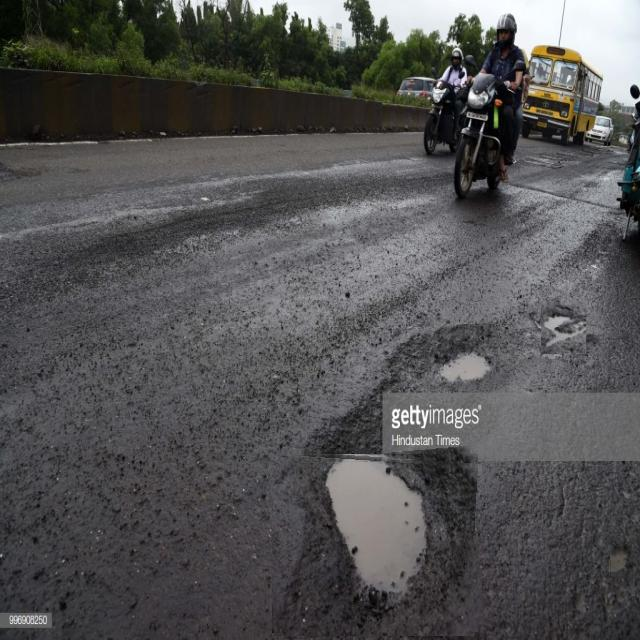Pothole: (272, 450, 482, 636), (422, 324, 500, 390), (541, 298, 586, 354), (608, 535, 640, 578)
